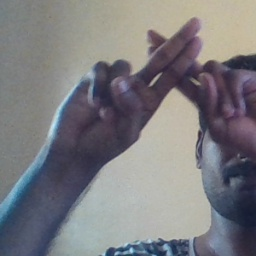F: (113, 11, 234, 125)
